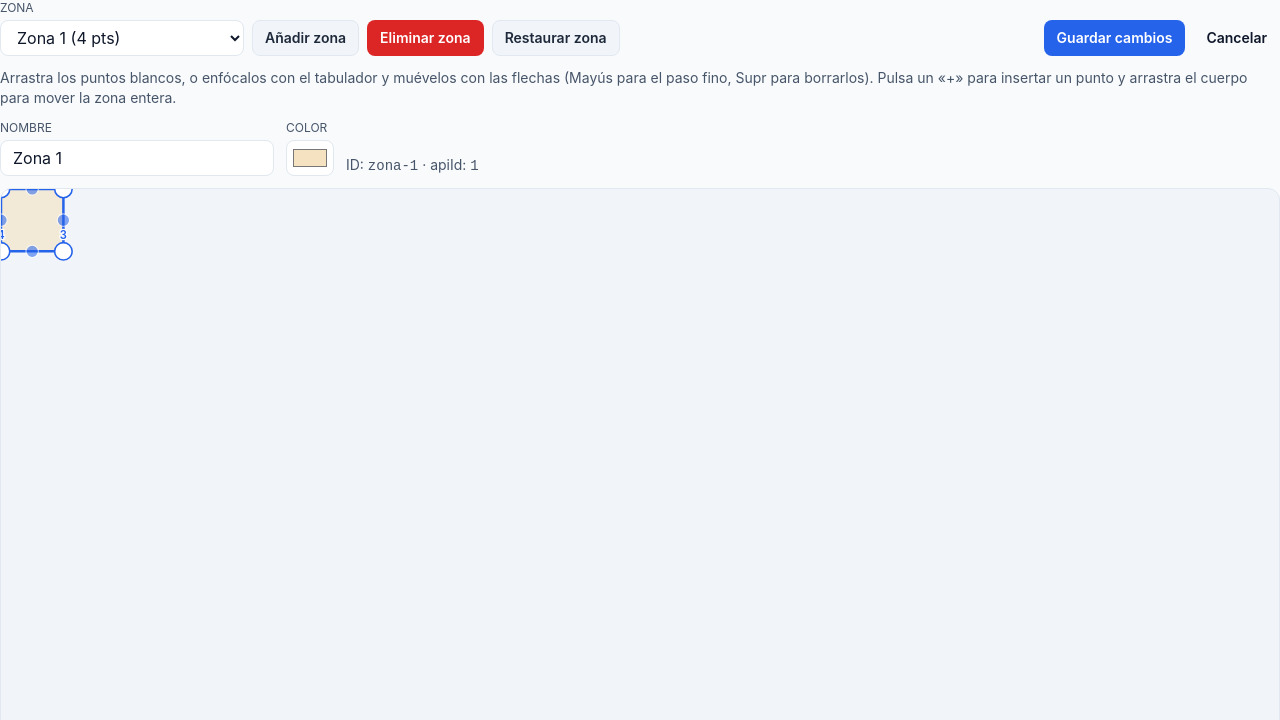
Test: adversarial · el editor bajo presión › borrar la última zona deja el editor sin selección, sin romperse
Click the button "Eliminar zona" at point(425, 38), box [367,20,484,56]
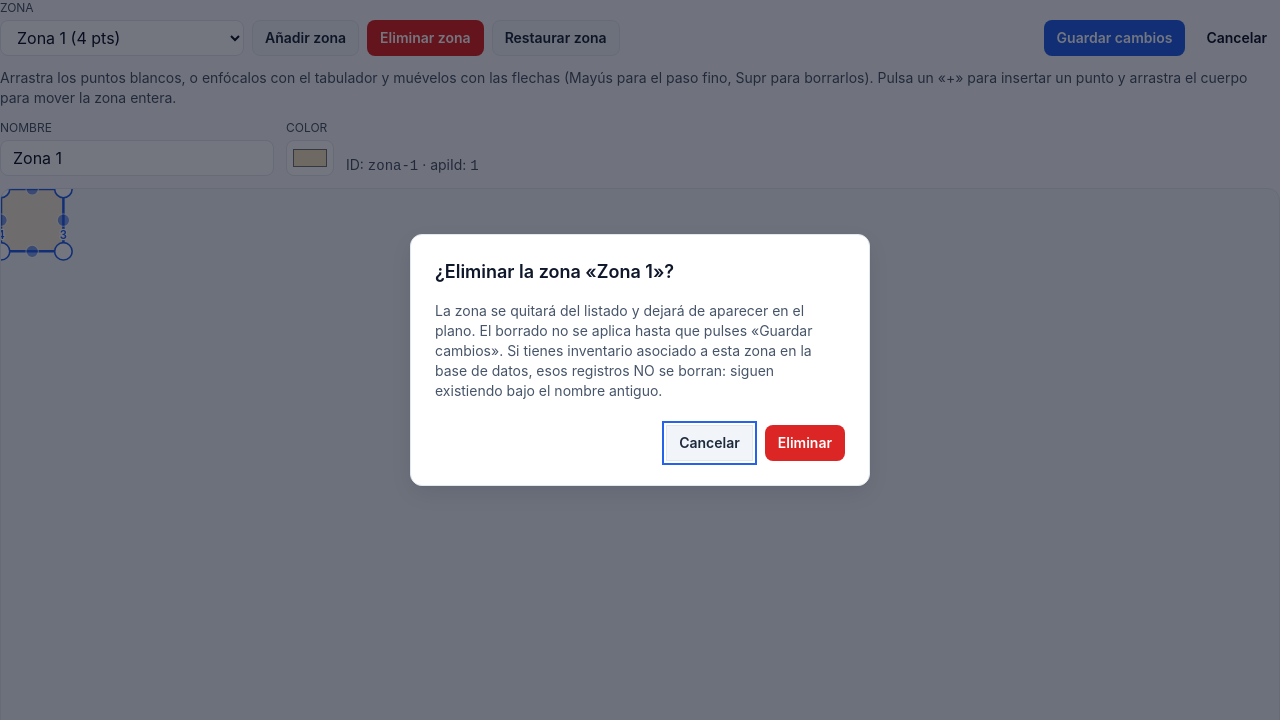
Click the button "Eliminar" at point(805, 443), box [765,425,845,461]
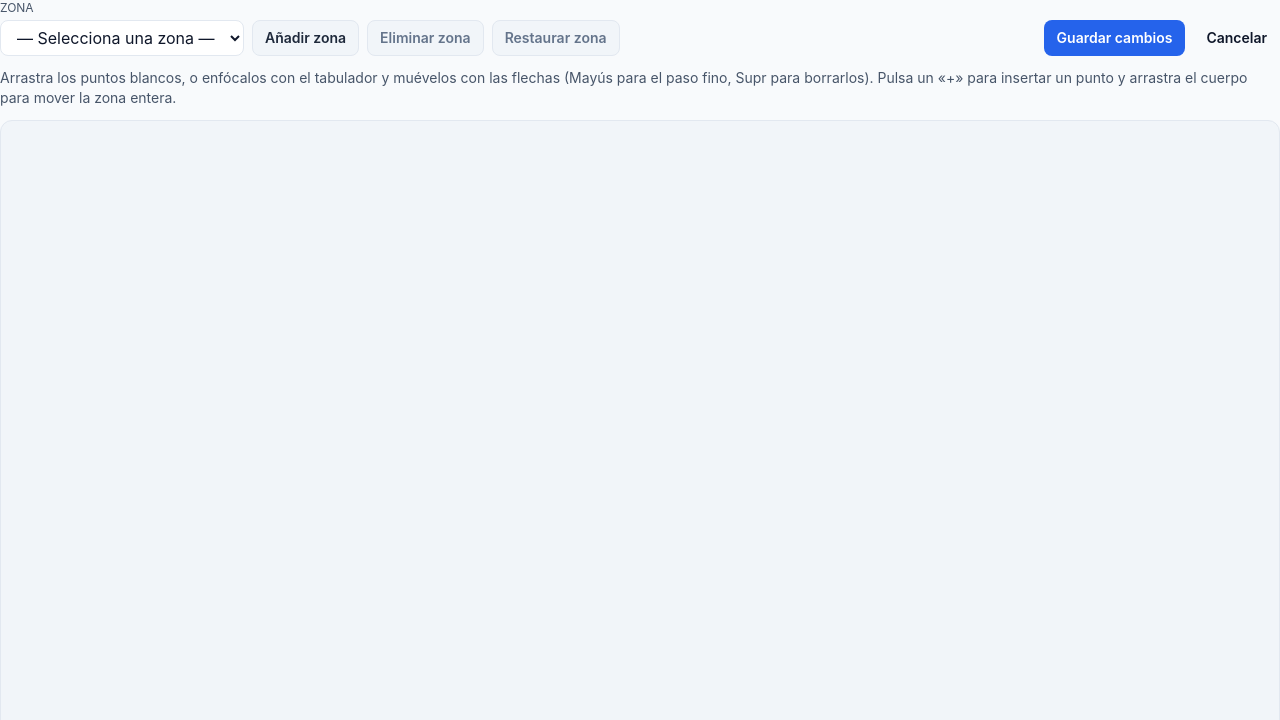
Now the dropdown labelled "Zona" shows "— Selecciona una zona —", box [0,20,244,56]
Now the button "Eliminar zona" is disabled, box [367,20,484,56]
